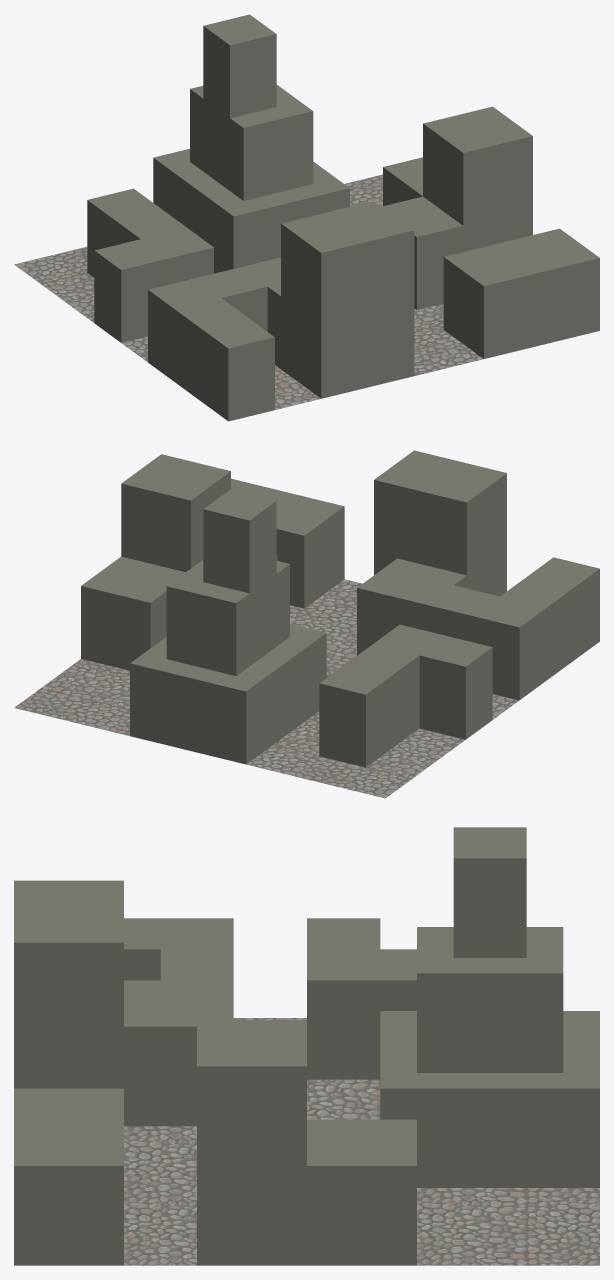
Rendered from tile2.fbx.
The picture shows the model from 3 angles, top to bottom: view 1: azimuth 30°, elevation 25°; view 2: azimuth 150°, elevation 25°; view 3: azimuth 270°, elevation 25°; orthographic projection. The views are drawn at different scales.
Parts seen in each view (by area): view 1: Tile2; view 2: Tile2; view 3: Tile2.
Part boxes in pixels (x1,y1,x2,y2): Tile2: (14,14,599,421); Tile2: (14,450,599,798); Tile2: (14,827,599,1265).
Bounding box in the file's own units: 1600 × 900 × 1600.
